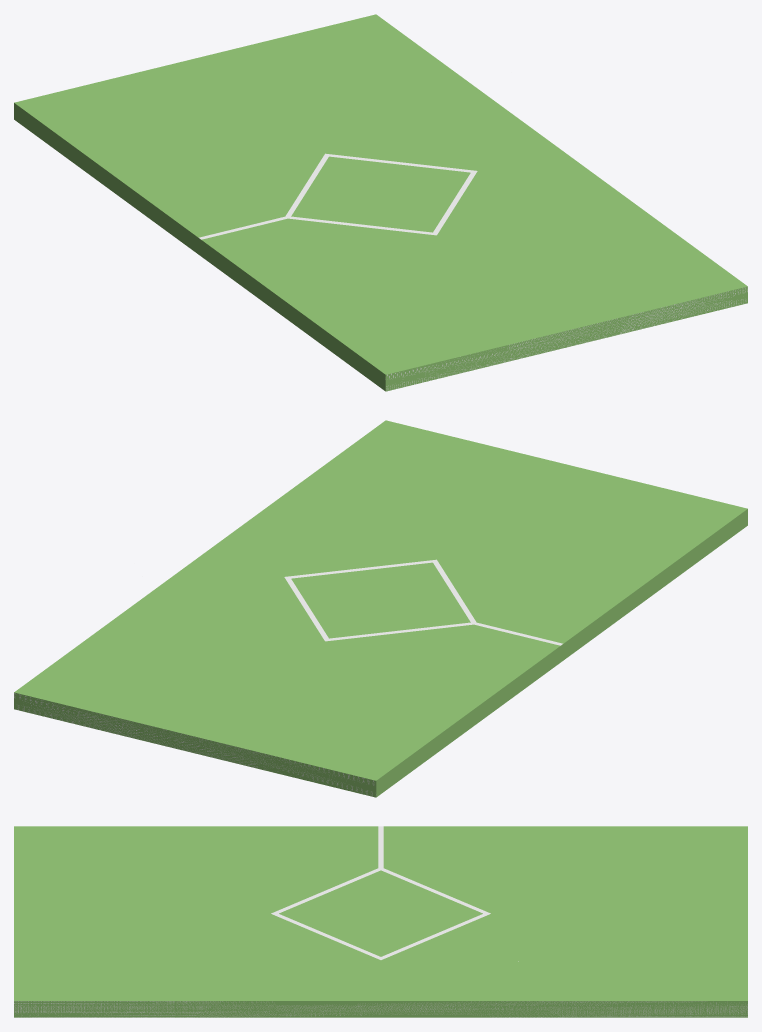
3 renders of one model, top to bottom at view 1: azimuth 30°, elevation 25°; view 2: azimuth 150°, elevation 25°; view 3: azimuth 270°, elevation 25°, orthographic.
Parts seen in each view (by area): view 1: group_0.001, group_0, group_0.002; view 2: group_0.001, group_0, group_0.002; view 3: group_0.001, group_0, group_0.002.
Part boxes in pixels (x1,y1,x2,y2): group_0.001: [14, 14, 747, 391]; group_0: [291, 156, 470, 232]; group_0.002: [199, 153, 477, 239]; group_0.001: [14, 420, 747, 797]; group_0: [291, 562, 470, 638]; group_0.002: [284, 559, 562, 645]; group_0.001: [14, 826, 747, 1017]; group_0: [279, 870, 482, 956]; group_0.002: [271, 826, 490, 959].
Size of the model in its own units: 2.3 by 4 by 0.3.
